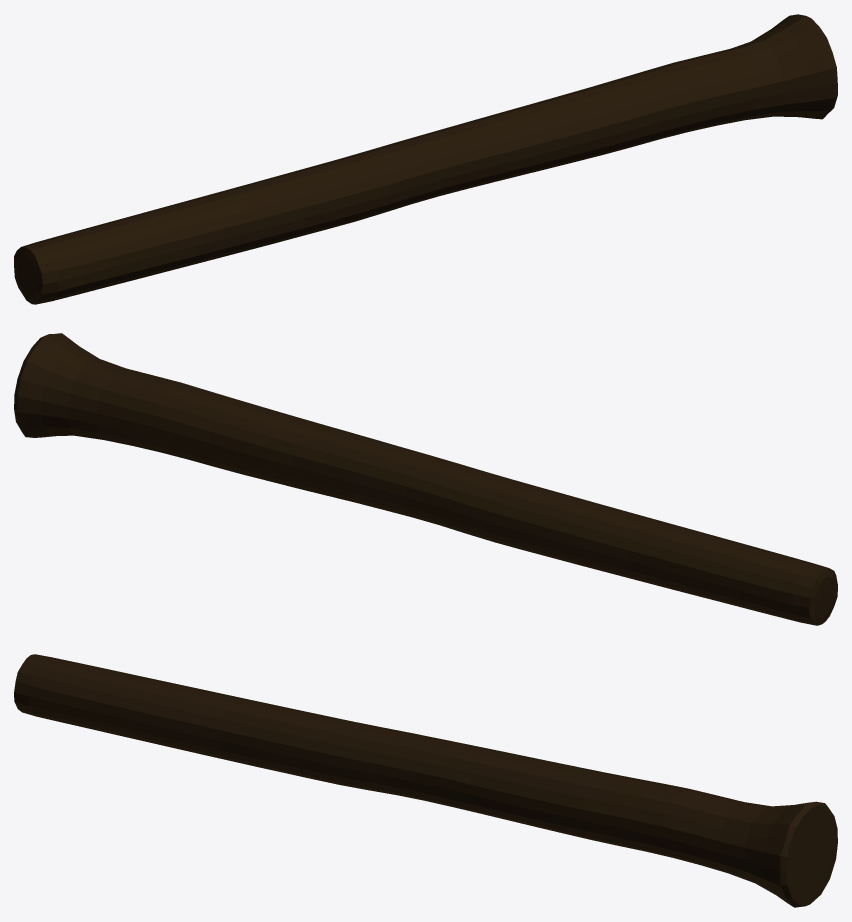
File: ObstacleTree.gltf
3 views of the same model, one above another, from view 1: azimuth 30°, elevation 25°; view 2: azimuth 150°, elevation 25°; view 3: azimuth 330°, elevation 25° (orthographic).
Parts seen in each view (by area): view 1: ObstacleTree; view 2: ObstacleTree; view 3: ObstacleTree.
Part boxes in pixels (x1=…): ObstacleTree: x1=14, y1=14, x2=837, y2=304; ObstacleTree: x1=14, y1=333, x2=837, y2=625; ObstacleTree: x1=14, y1=654, x2=837, y2=907.
Size of the model in its own units: 5.96 by 0.7224 by 0.7033.
